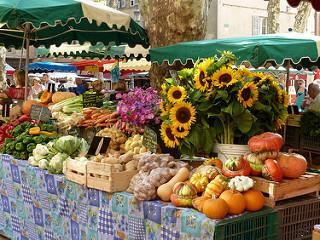sunflower: (169, 101, 197, 128), (158, 120, 178, 148), (210, 66, 238, 85), (239, 81, 256, 107), (195, 63, 208, 91), (167, 85, 187, 100)
